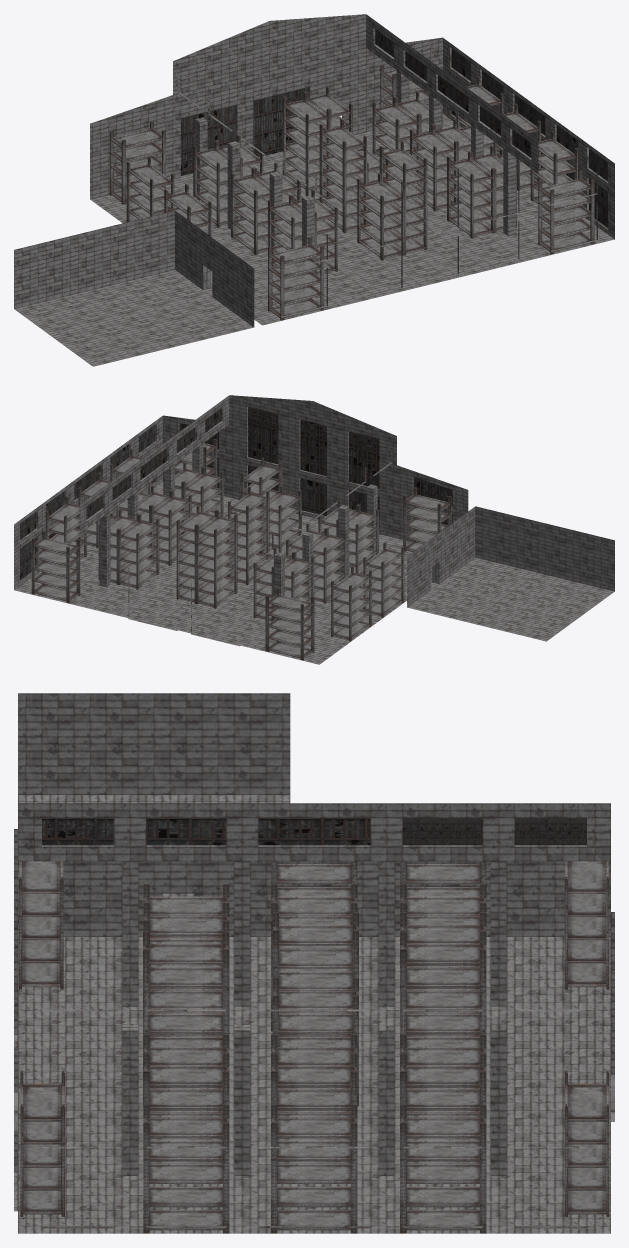
The model's file is Updated Sprint 3.glb.
3 renders of one model, top to bottom at view 1: azimuth 30°, elevation 25°; view 2: azimuth 150°, elevation 25°; view 3: azimuth 270°, elevation 25°, orthographic. The views are drawn at different scales.
Visible parts, largest first — view 1: Warehouse-col.001, Warehouse-col.005, Warehouse-col.008, Warehouse-col.009, Warehouse-col.006, Warehouse-col.007, Shelving_Unit_Base_Small-col.059, Shelving_Unit_Small-col.092, Shelving_Unit_Small-col.065, Shelving_Unit_Base_Small-col.035, Shelving_Unit_Base_Small-col.051, Shelving_Unit_Base_Small-col.027 (+21 smaller); view 2: Warehouse-col.001, Warehouse-col.003, Warehouse-col.006, Warehouse-col.008, Warehouse-col.009, Warehouse-col.007, Shelving_Unit_Base_Tall-col.004, Shelving_Unit_Small-col.065, Shelving_Unit_Base_Small-col.043, Shelving_Unit_Small-col.039, Shelving_Unit_Small-col.138, Shelving_Unit_Small-col.092 (+20 smaller); view 3: Warehouse-col.001, Warehouse-col.002, Warehouse-col.003, Warehouse-col.004, Warehouse-col.005, Warehouse-col.006, Warehouse-col.007, Warehouse-col.008, Warehouse-col.009, Shelving_Unit_Base_Small-col.043, Shelving_Unit_Base_Small-col.035, Shelving_Unit_Base_Tall-col.003 (+74 smaller).
Boxes of the visible parts, x1=… form: Warehouse-col.001: x1=14, y1=14, x2=614, y2=366; Warehouse-col.005: x1=503, y1=148, x2=516, y2=235; Warehouse-col.008: x1=227, y1=141, x2=240, y2=229; Warehouse-col.009: x1=302, y1=195, x2=314, y2=272; Warehouse-col.006: x1=269, y1=171, x2=282, y2=260; Warehouse-col.007: x1=195, y1=117, x2=207, y2=204; Shelving_Unit_Base_Small-col.059: x1=269, y1=245, x2=320, y2=264; Shelving_Unit_Small-col.092: x1=411, y1=132, x2=456, y2=155; Shelving_Unit_Small-col.065: x1=164, y1=192, x2=211, y2=215; Shelving_Unit_Base_Small-col.035: x1=539, y1=178, x2=591, y2=198; Shelving_Unit_Base_Small-col.051: x1=110, y1=129, x2=165, y2=148; Shelving_Unit_Base_Small-col.027: x1=357, y1=181, x2=402, y2=205; Warehouse-col.001: x1=14, y1=395, x2=614, y2=664; Warehouse-col.003: x1=99, y1=511, x2=110, y2=587; Warehouse-col.006: x1=338, y1=505, x2=349, y2=581; Warehouse-col.008: x1=302, y1=531, x2=313, y2=608; Warehouse-col.009: x1=366, y1=484, x2=377, y2=559; Warehouse-col.007: x1=274, y1=552, x2=284, y2=619; Shelving_Unit_Base_Tall-col.004: x1=241, y1=464, x2=282, y2=485; Shelving_Unit_Small-col.065: x1=363, y1=549, x2=403, y2=569; Shelving_Unit_Base_Small-col.043: x1=32, y1=538, x2=79, y2=554; Shelving_Unit_Small-col.039: x1=119, y1=521, x2=159, y2=541; Shelving_Unit_Small-col.138: x1=184, y1=473, x2=223, y2=494; Shelving_Unit_Small-col.092: x1=151, y1=497, x2=189, y2=517; Warehouse-col.001: x1=14, y1=693, x2=614, y2=1233; Warehouse-col.002: x1=234, y1=1024, x2=250, y2=1175; Warehouse-col.003: x1=490, y1=1024, x2=506, y2=1175; Warehouse-col.004: x1=378, y1=1024, x2=394, y2=1175; Warehouse-col.005: x1=122, y1=1024, x2=138, y2=1175; Warehouse-col.006: x1=234, y1=861, x2=250, y2=1006; Warehouse-col.007: x1=490, y1=861, x2=506, y2=1006; Warehouse-col.008: x1=378, y1=861, x2=394, y2=1006; Warehouse-col.009: x1=122, y1=861, x2=138, y2=1006; Shelving_Unit_Base_Small-col.043: x1=564, y1=1083, x2=609, y2=1121; Shelving_Unit_Base_Small-col.035: x1=20, y1=1083, x2=64, y2=1121; Shelving_Unit_Base_Tall-col.003: x1=272, y1=925, x2=358, y2=945.
Size of the model in its own units: 81.56 by 20.06 by 47.03.
Materials: 5 (5 with a texture image).
